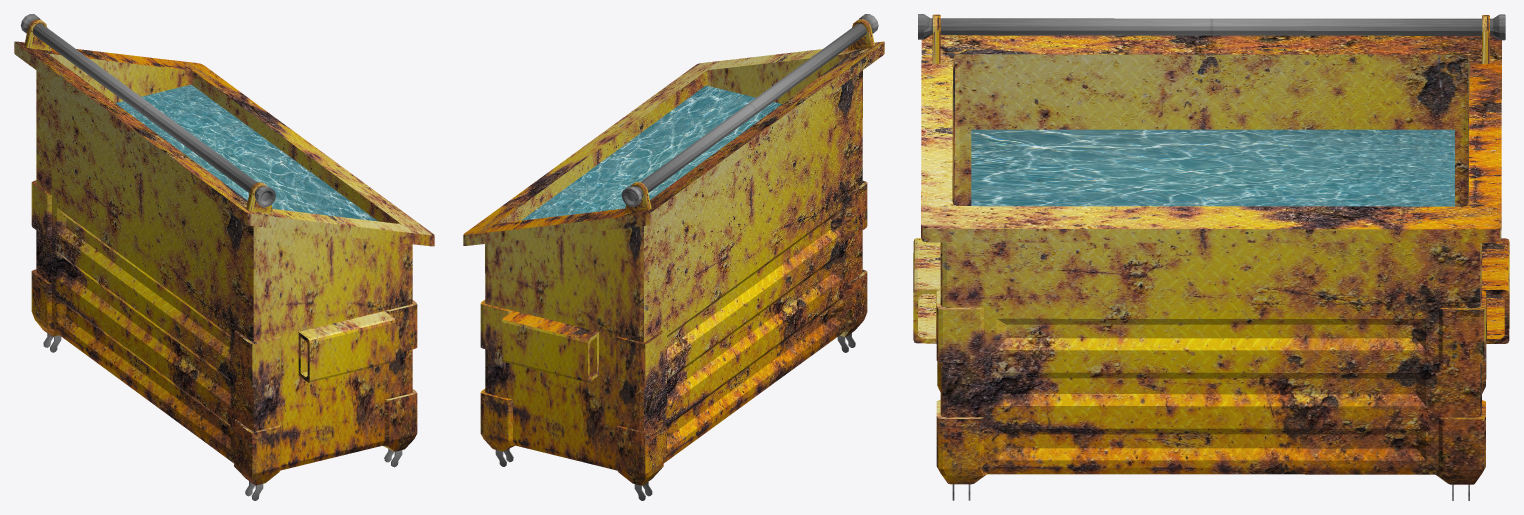
Rendered from carro.obj.
3 renders of one model, left to right at view 1: azimuth 30°, elevation 25°; view 2: azimuth 150°, elevation 25°; view 3: azimuth 270°, elevation 25°, orthographic. The views are drawn at different scales.
Parts seen in each view (by area): view 1: Box001, Box008, Cylinder02; view 2: Box001, Box008, Cylinder02; view 3: Box001, Box008, Cylinder02.
Boxes of the visible parts, x1=… form: Box001: x1=14, y1=41, x2=434, y2=485; Box008: x1=115, y1=84, x2=377, y2=221; Cylinder02: x1=20, y1=14, x2=275, y2=207; Box001: x1=463, y1=41, x2=884, y2=485; Box008: x1=521, y1=85, x2=781, y2=220; Cylinder02: x1=621, y1=14, x2=878, y2=206; Box001: x1=913, y1=35, x2=1509, y2=484; Box008: x1=971, y1=129, x2=1454, y2=206; Cylinder02: x1=918, y1=14, x2=1505, y2=40.
Bounding box in the file's own units: 34.15 × 55.79 × 75.48.
3 materials, 3 textured.
